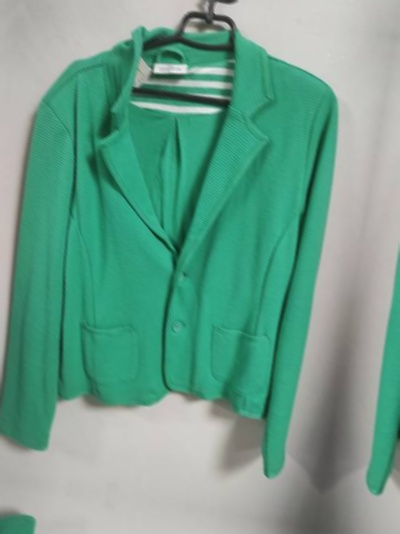Blazer: (0, 9, 370, 501), (341, 67, 400, 534), (0, 499, 292, 534), (60, 0, 400, 6)
